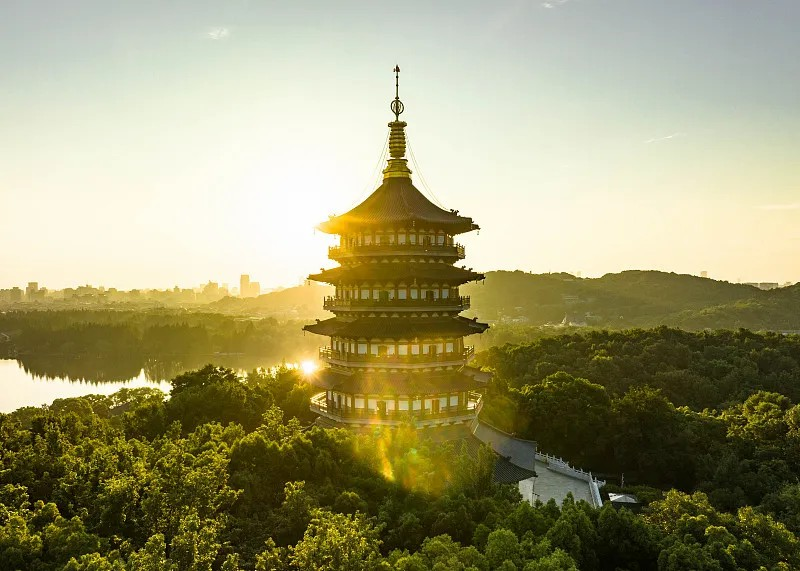Leifeng: (304, 62, 491, 459)
